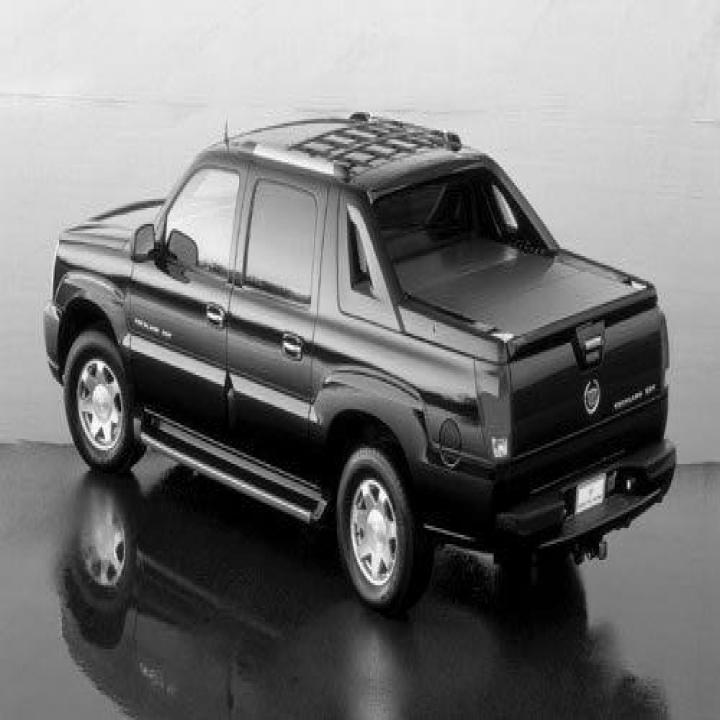car: (42, 107, 675, 615)
